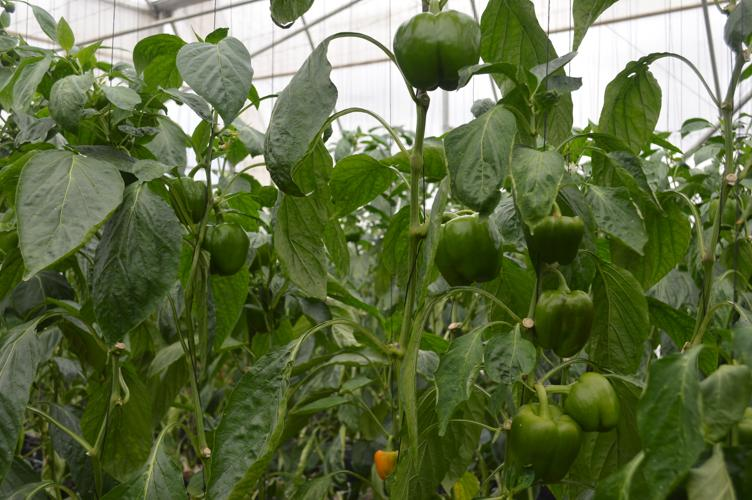BellPepper: (391, 8, 484, 94), (507, 398, 581, 487), (429, 209, 505, 293), (531, 285, 597, 364), (524, 210, 587, 272), (566, 380, 631, 435), (196, 217, 250, 276), (164, 172, 209, 228)
